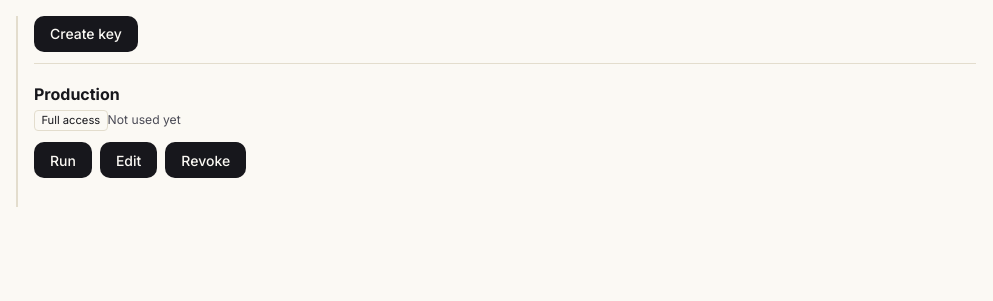
Test: bot keys have no per-key runtime action; personal keys have Run
The width and height of the screenshot is (993, 301).
Expected: the text "Production" is shown, [34,82,120,106]
Click the button "Run" at (63,160), box [34,142,92,178]
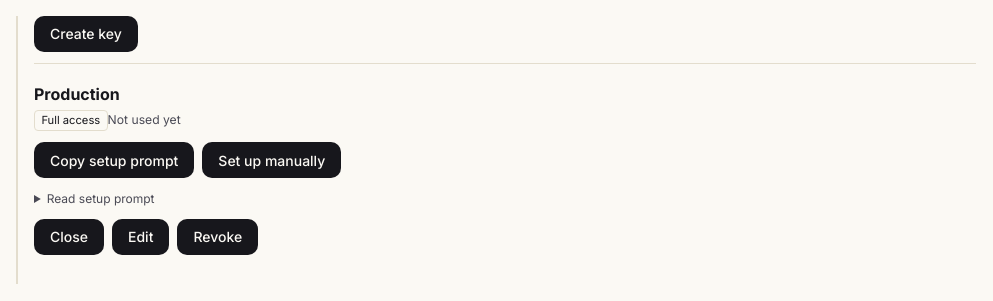
Expected: the button "Copy setup prompt" is shown, [34,142,194,178]
